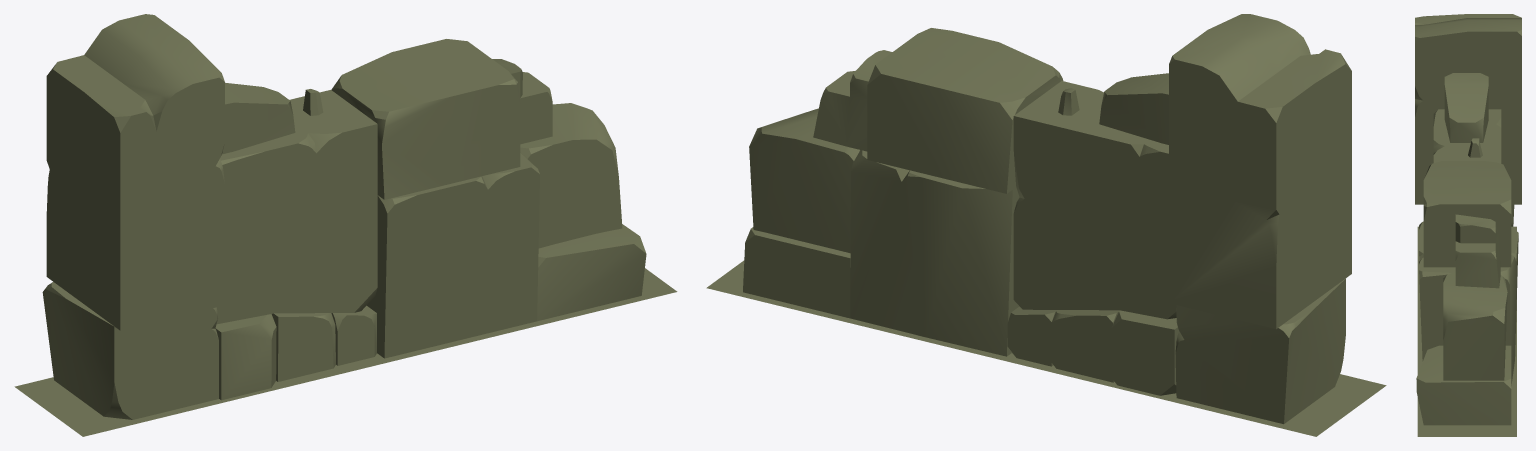
File: OBJ_MIDRock_02.FBX
3 renders of one model, left to right at view 1: azimuth 30°, elevation 25°; view 2: azimuth 150°, elevation 25°; view 3: azimuth 270°, elevation 25°, orthographic. The views are drawn at different scales.
Parts seen in each view (by area): view 1: OBJ_MIDRock_02; view 2: OBJ_MIDRock_02; view 3: OBJ_MIDRock_02.
Boxes of the visible parts, x1,y1,x2,y2 form: OBJ_MIDRock_02: [14, 14, 677, 436]; OBJ_MIDRock_02: [706, 14, 1386, 436]; OBJ_MIDRock_02: [1415, 14, 1521, 436].
Size of the model in its own units: 30 by 16.26 by 6.44.
